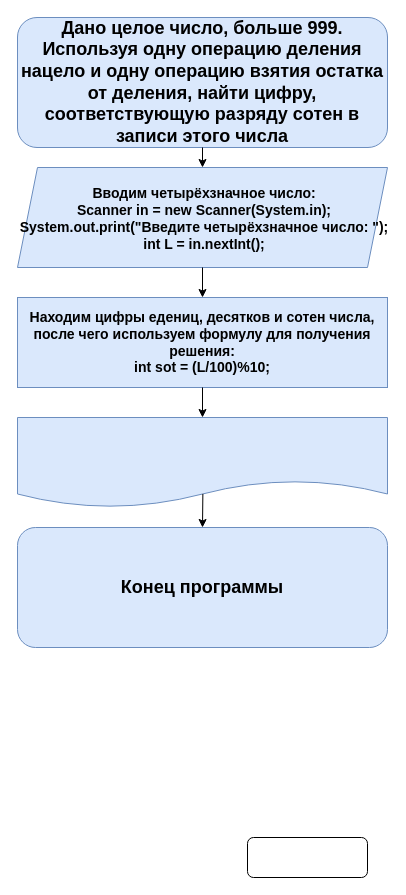
Image size: 406x895. Some labels were removed from this diagram. The shapes that lost their labels are listed below. From the top down, each one's centre as x and y in pixels, then its label:
point (202, 462): Выводим в консоль результат: System.out.println("Результат: " + sot);
point (307, 857): Repair Lamp
